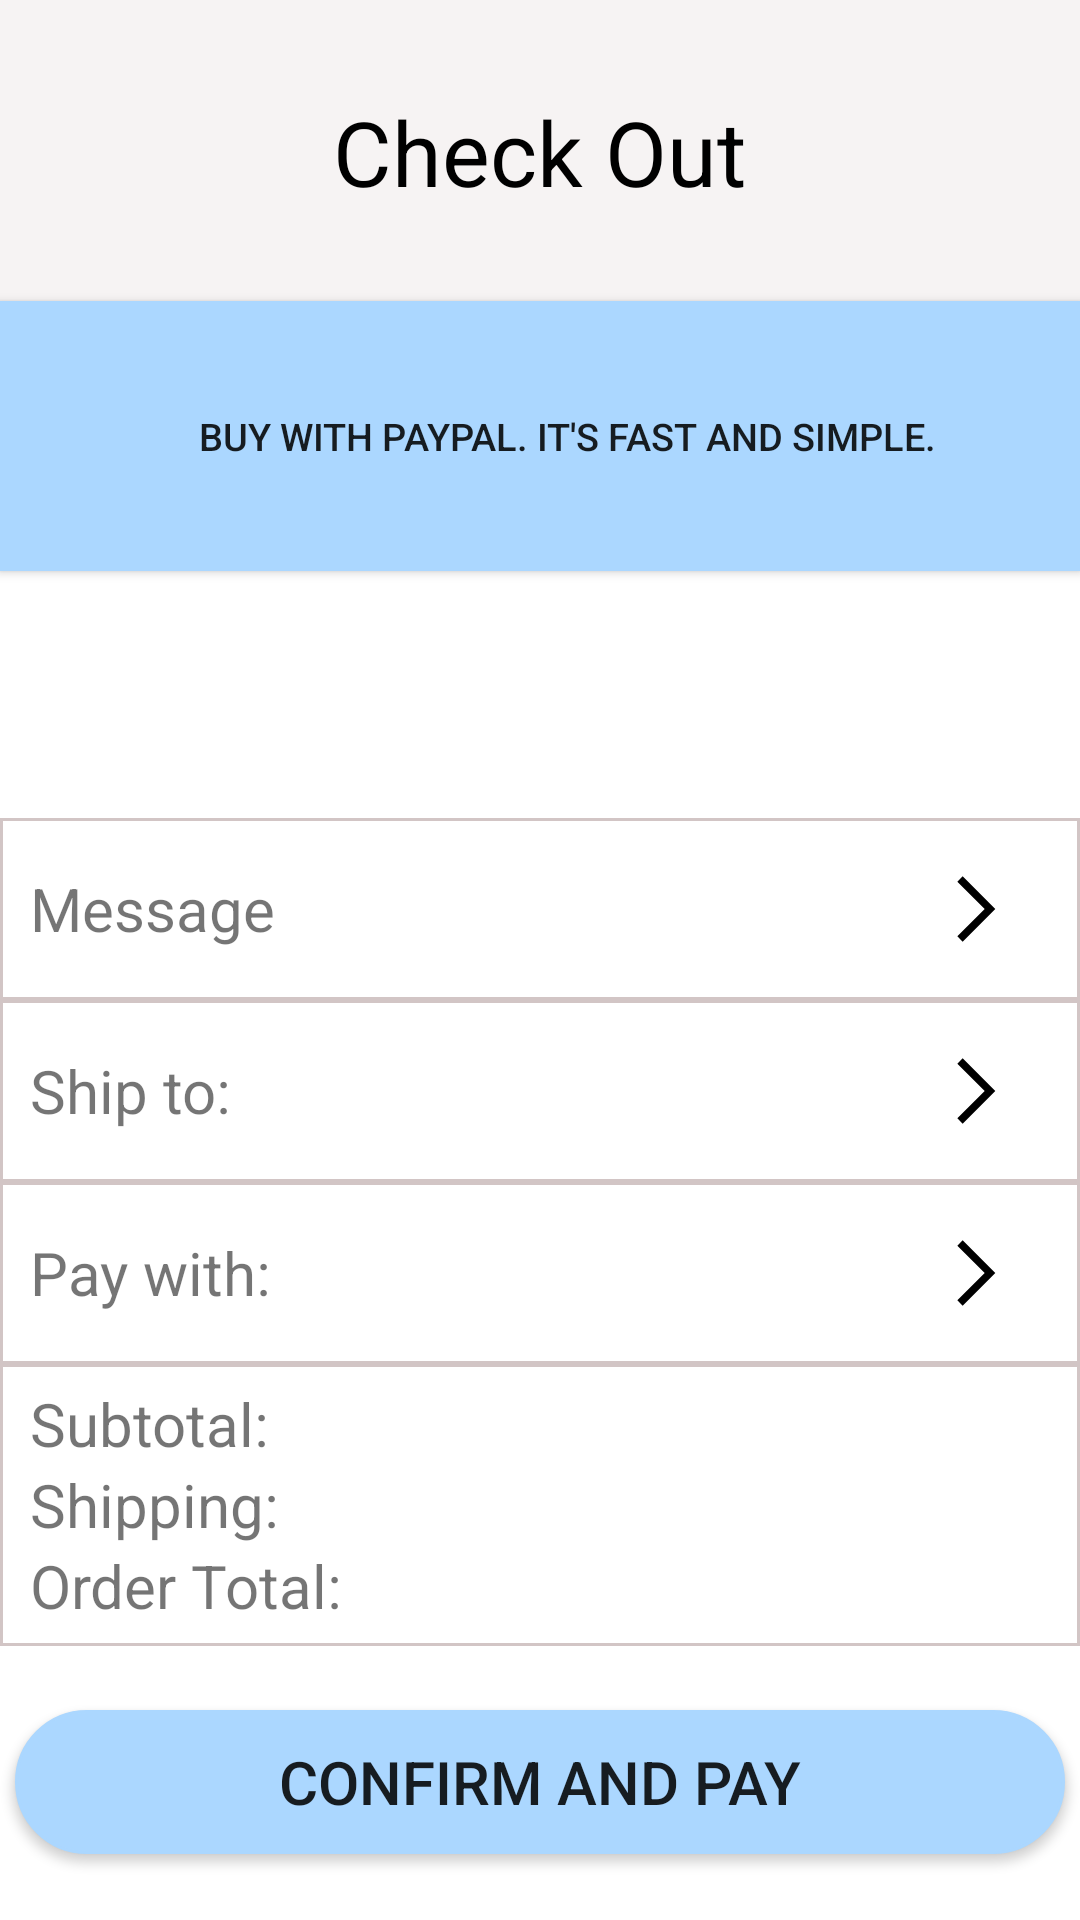

Icon click points for this 1080 × 1920 phone screenshot, format (x,y):
arrow: (976,909), (976,1091), (976,1273)
